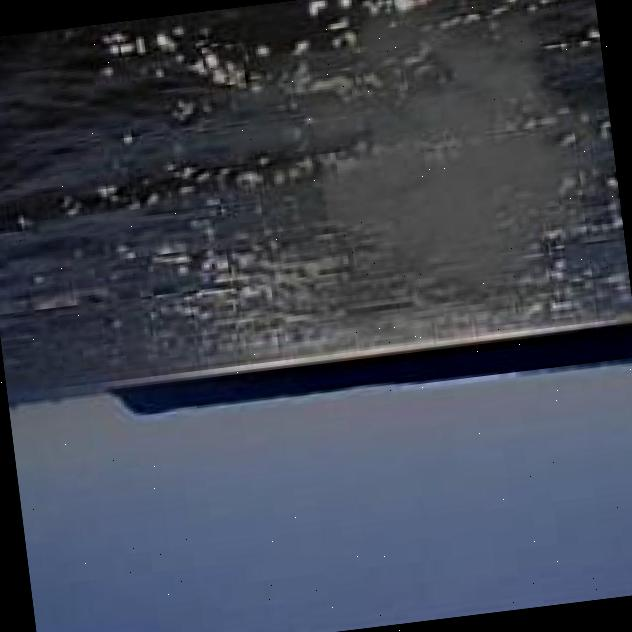smoke: (194, 0, 632, 377)
